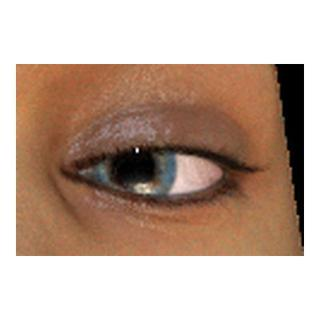pupil: (111, 145, 155, 189)
